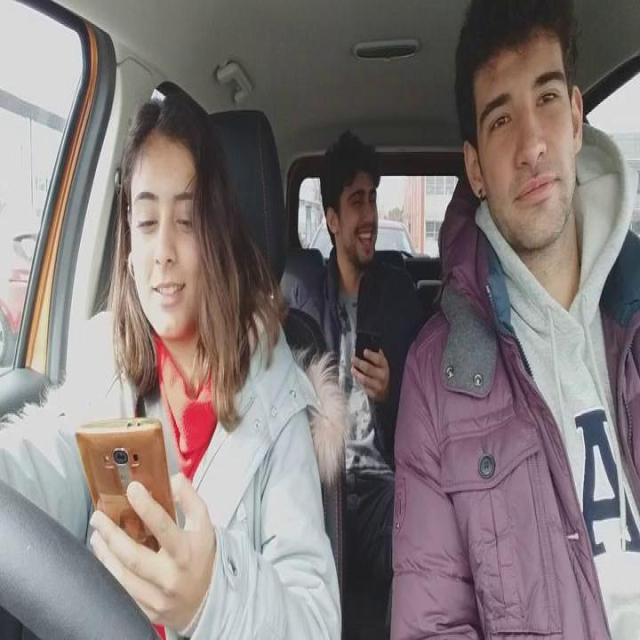phone: (75, 416, 175, 534), (355, 331, 380, 360)
